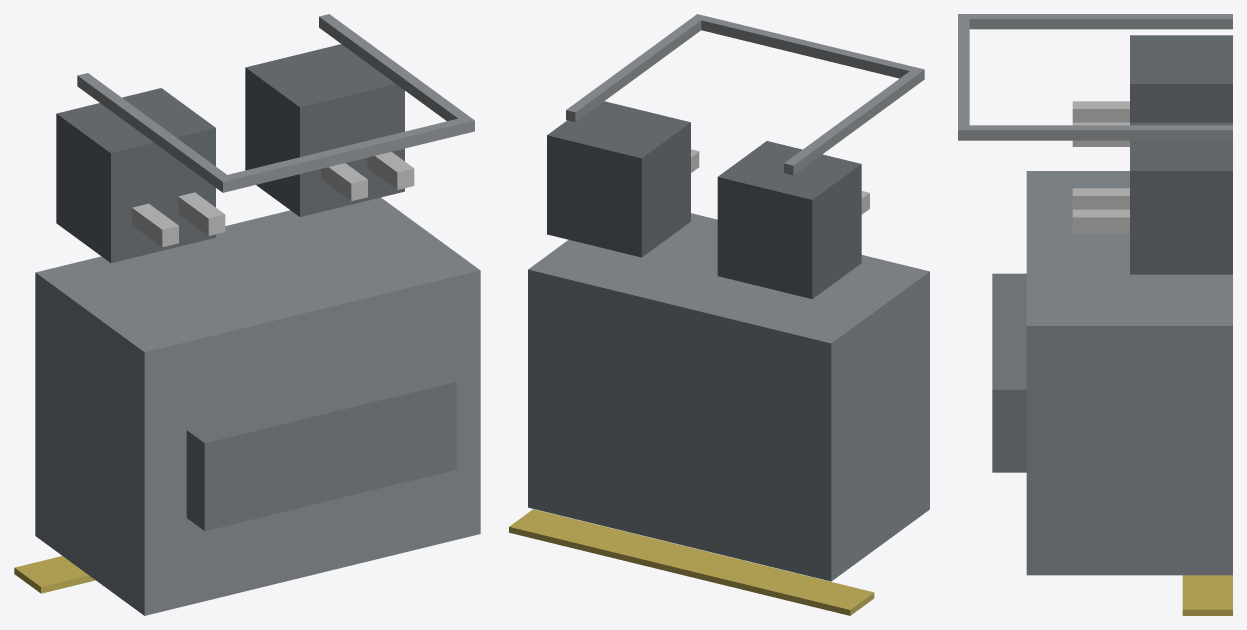
Rendered from substation_power.glb.
The picture shows the model from 3 angles, left to right: view 1: azimuth 30°, elevation 25°; view 2: azimuth 150°, elevation 25°; view 3: azimuth 270°, elevation 25°; orthographic projection. The views are drawn at different scales.
Size of the model in its own units: 18 by 22 by 12.
